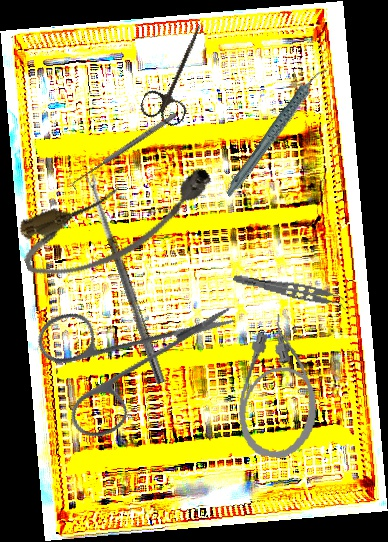Cannula: (11, 154, 226, 290), (232, 310, 330, 463)
Handpiece: (203, 65, 351, 199)
Hook Surgical: (69, 110, 181, 192)
Iris Scissors: (9, 242, 240, 473), (137, 15, 219, 130)
Surgical Spoon: (85, 173, 167, 385)
Tissue Forceps: (231, 272, 349, 312)
